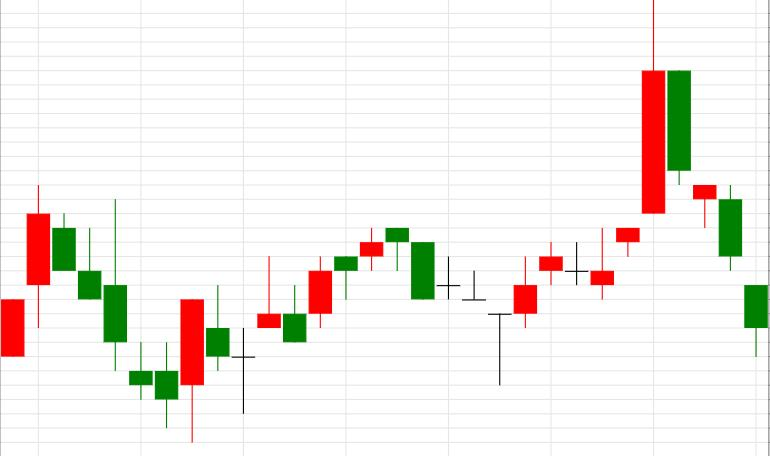bullish_engulfing_rise: (53, 198, 203, 442)
evening_star_fall: (284, 228, 434, 343)
